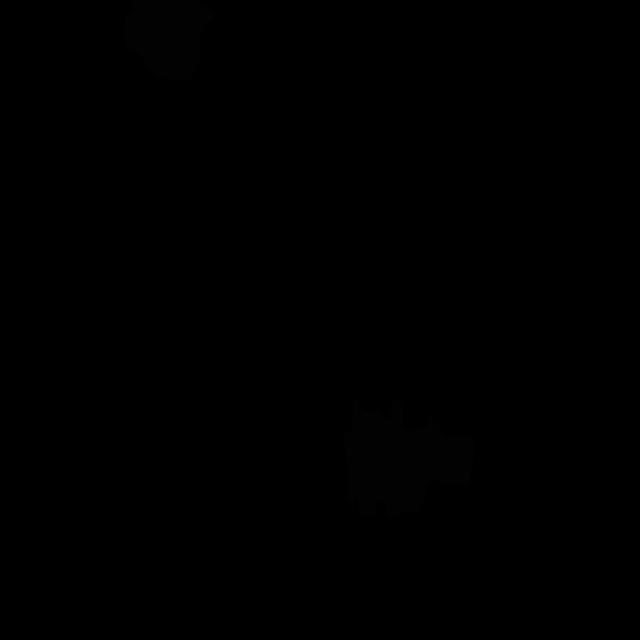cardboard: (344, 393, 474, 518), (124, 0, 214, 81)
